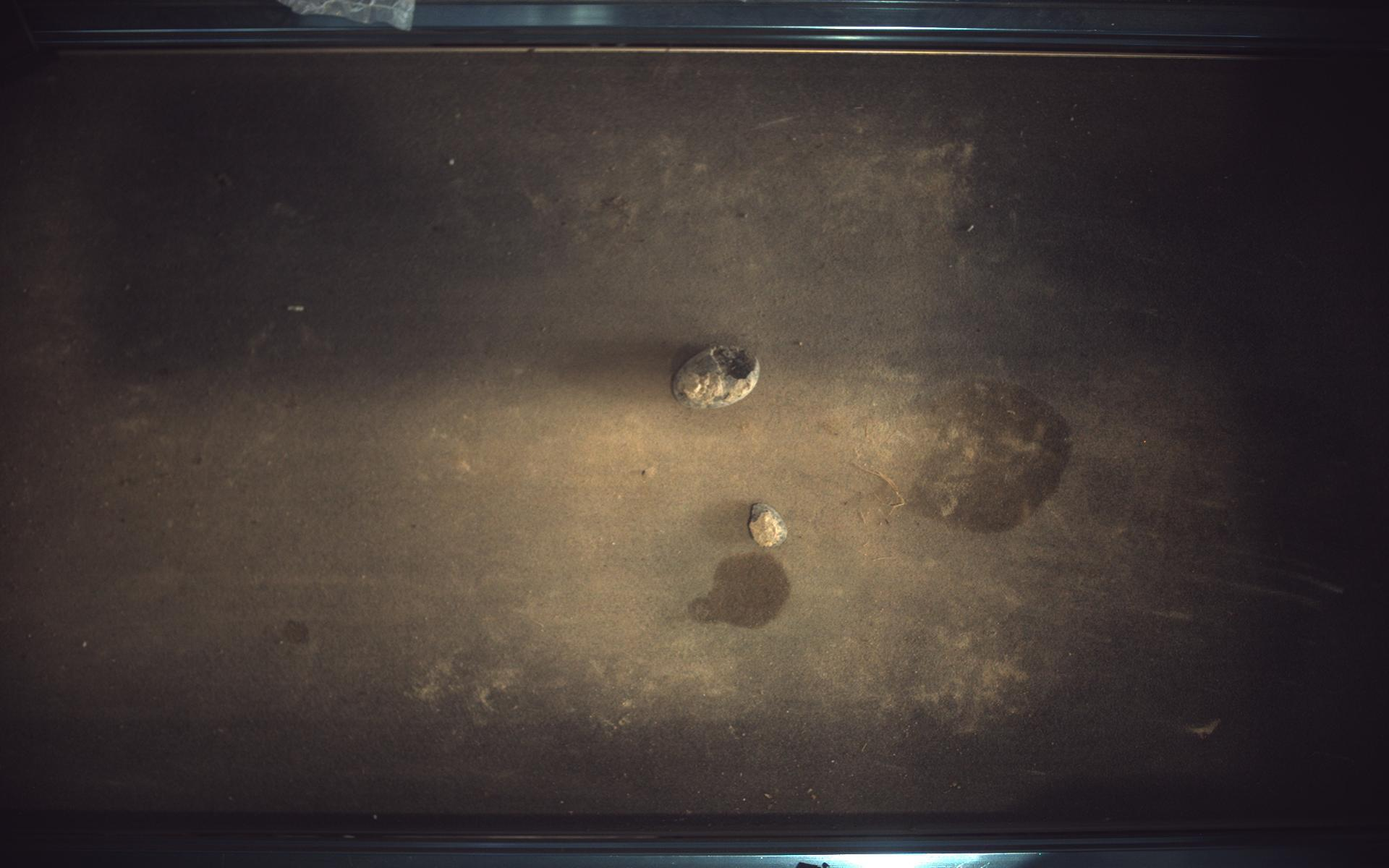stone: (674, 344, 761, 409), (750, 503, 789, 548)
